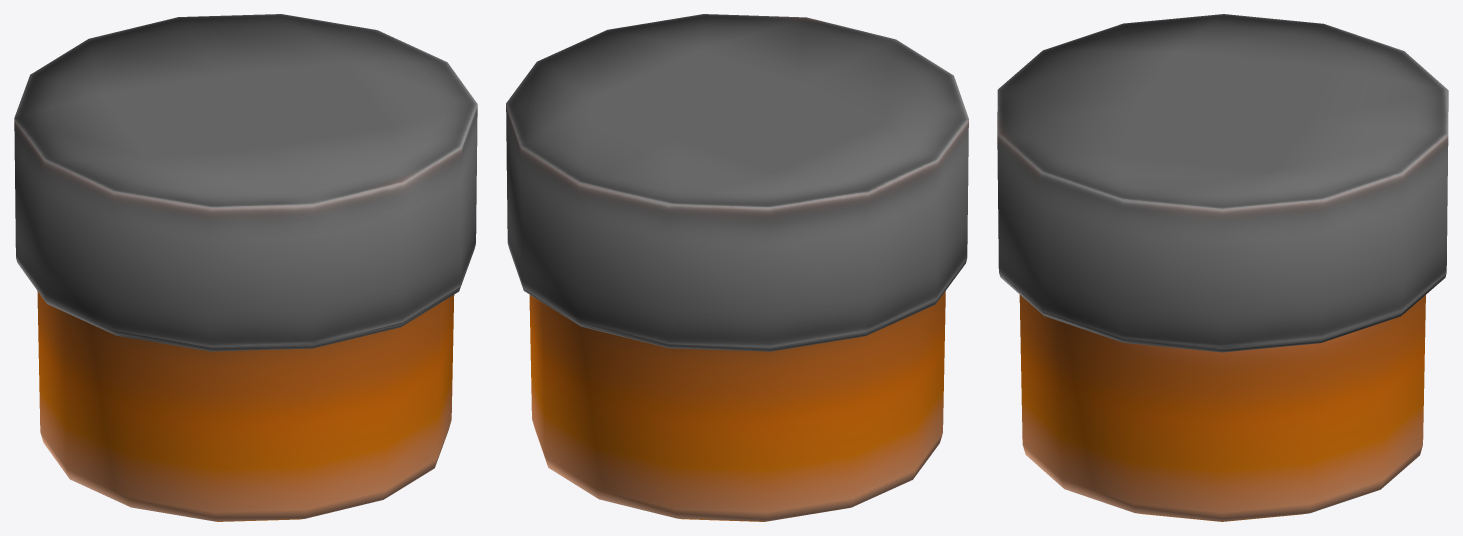
File: BOTON_REINICIO.fbx
The picture shows the model from 3 angles, left to right: view 1: azimuth 30°, elevation 25°; view 2: azimuth 150°, elevation 25°; view 3: azimuth 270°, elevation 25°; orthographic projection.
Visible parts, largest first — view 1: BOTON_REINICIO; view 2: BOTON_REINICIO; view 3: BOTON_REINICIO.
Boxes of the visible parts, x1,y1,x2,y2 form: BOTON_REINICIO: [14, 14, 477, 521]; BOTON_REINICIO: [506, 14, 968, 521]; BOTON_REINICIO: [997, 14, 1448, 521].
Size of the model in its own units: 5.54 by 4.43 by 5.41.
